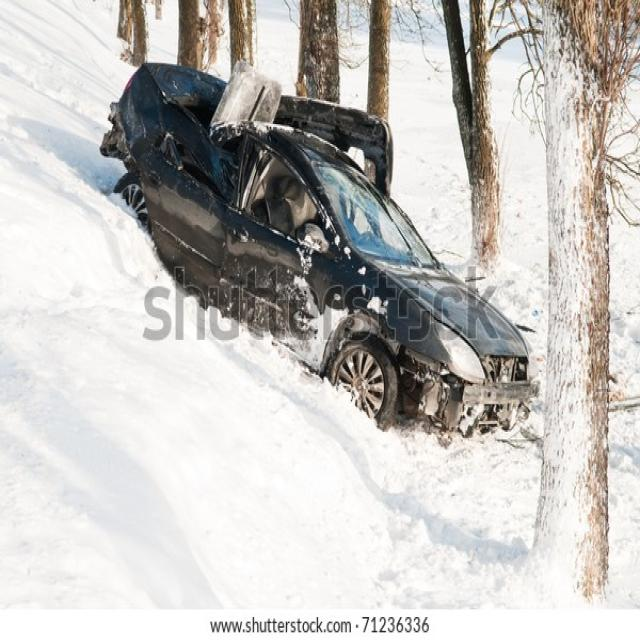Accident: (95, 54, 533, 444)
